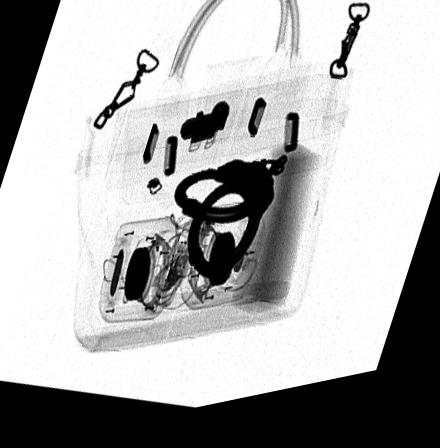HandCuffs: (172, 165, 287, 296)
